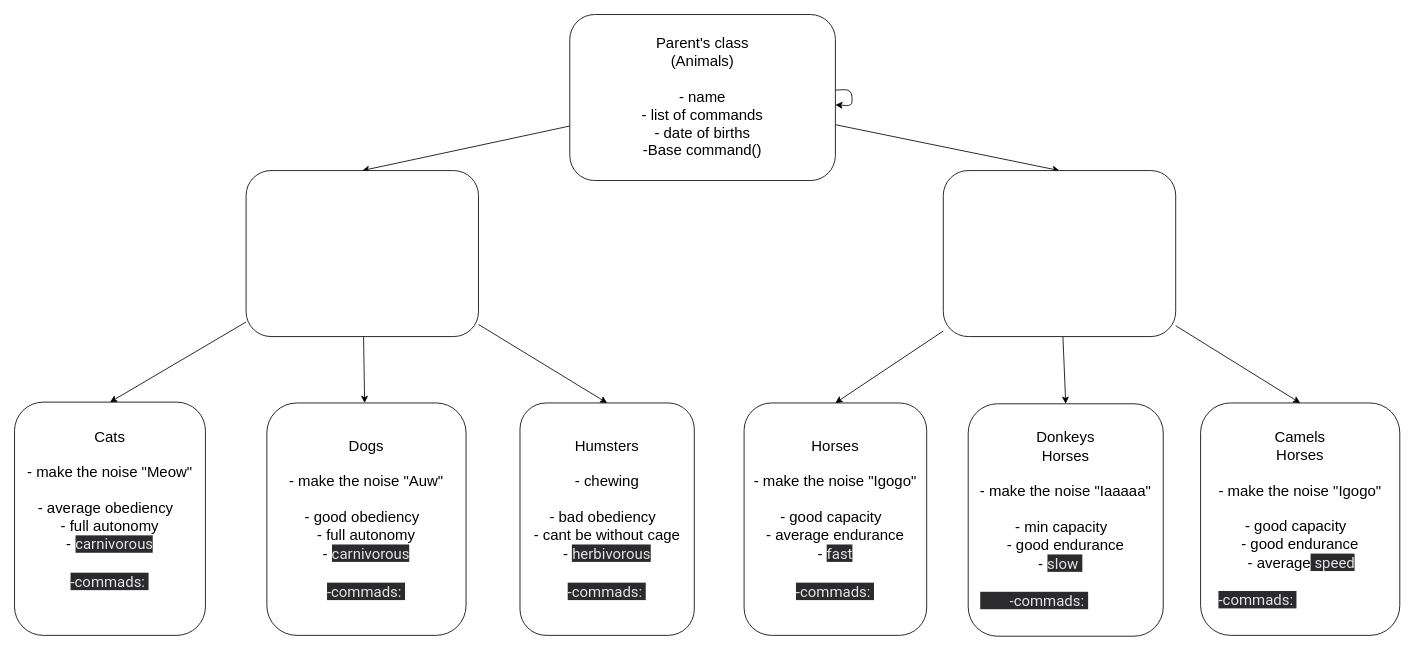
Image size: 1414x651. Some labels were removed from this diagram. The centre of each missing label's shape, as x and y in pixels:
"Pack animals - capacity - endurance - speed" belongs at (x=1059, y=253).
"Pets - obediency - autonomy - food habits" belongs at (x=361, y=253).
